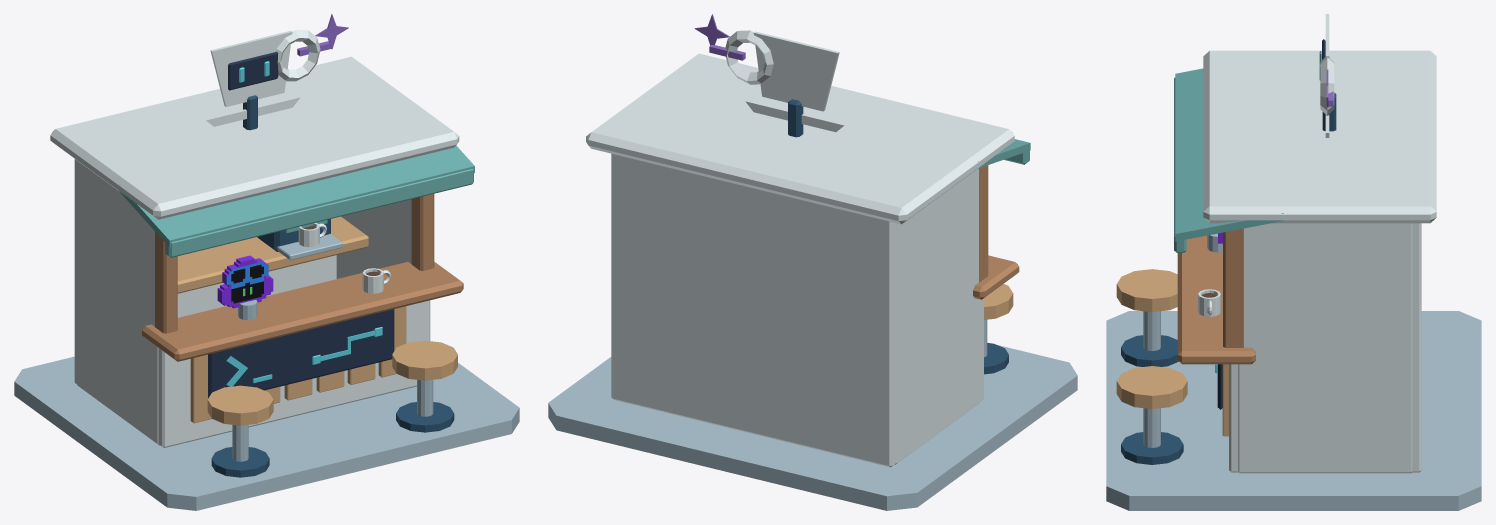
The model's file is campus_coffee_kiosk.glb.
The picture shows the model from 3 angles, left to right: view 1: azimuth 30°, elevation 25°; view 2: azimuth 150°, elevation 25°; view 3: azimuth 270°, elevation 25°; orthographic projection. The views are drawn at different scales.
Visible parts, largest first — view 1: campus_coffee_kiosk; view 2: campus_coffee_kiosk; view 3: campus_coffee_kiosk.
Part boxes in pixels (<box>): campus_coffee_kiosk: <box>14,14,519,510</box>; campus_coffee_kiosk: <box>548,14,1077,510</box>; campus_coffee_kiosk: <box>1106,14,1481,510</box>.
Bounding box in the file's own units: 4.2 × 4.14 × 3.6.
Materials: 1 (1 with a texture image).
